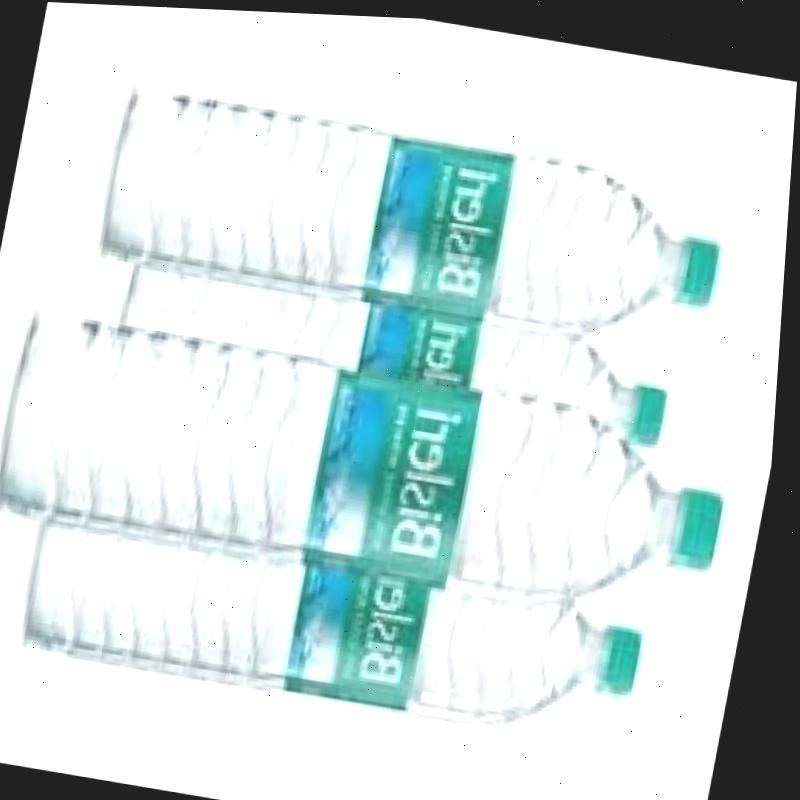botella: (0, 305, 749, 623), (94, 75, 739, 349), (26, 506, 658, 741), (115, 258, 684, 445)
